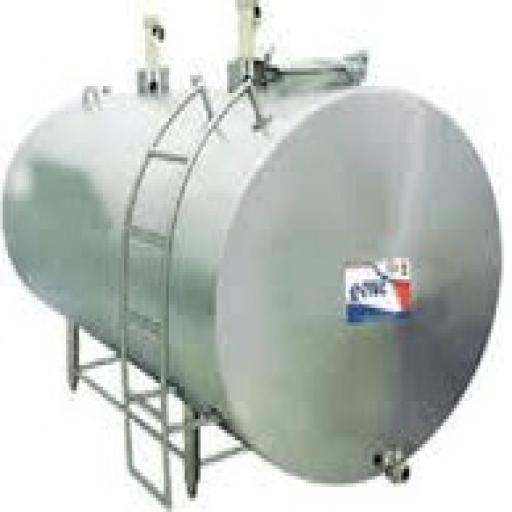silo: (1, 54, 503, 488)
